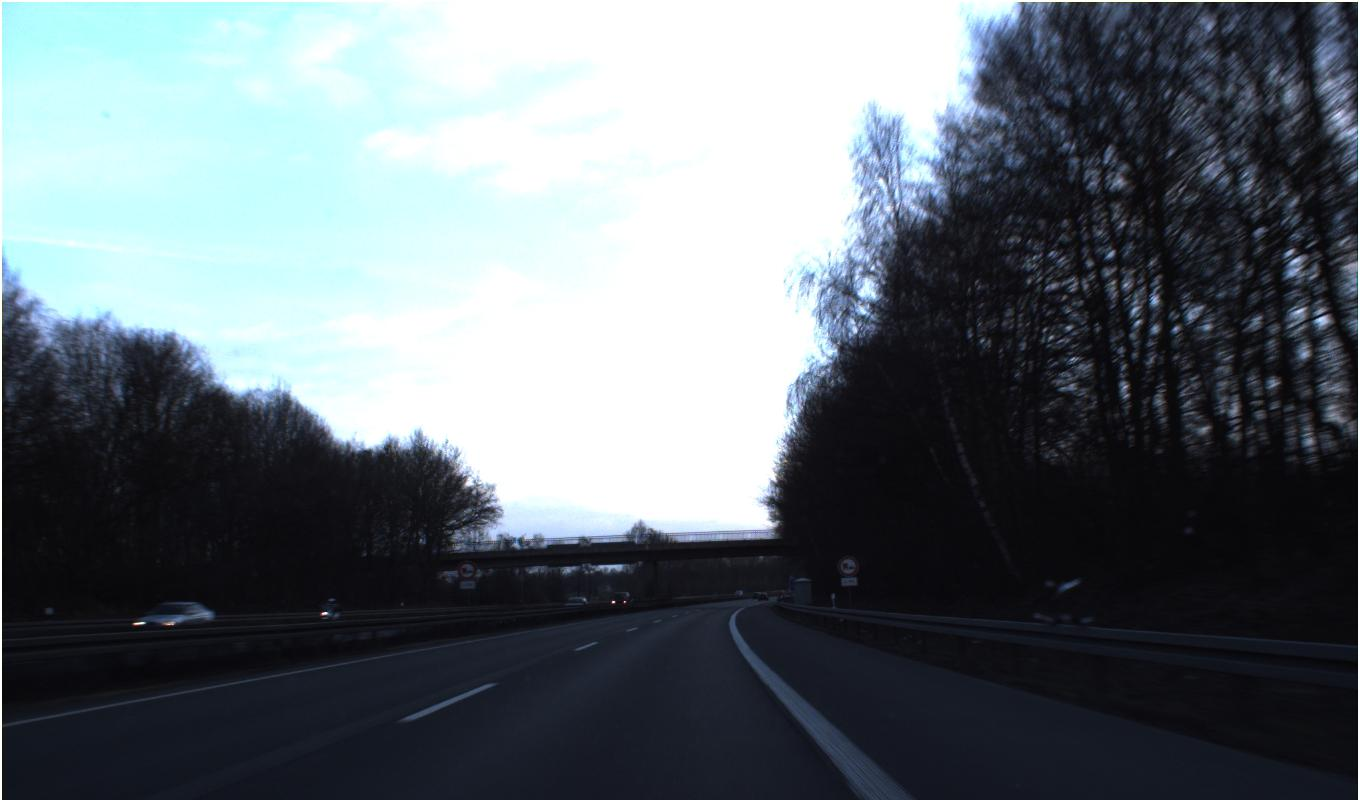prohibitory: (836, 554, 860, 578), (456, 559, 477, 581)
